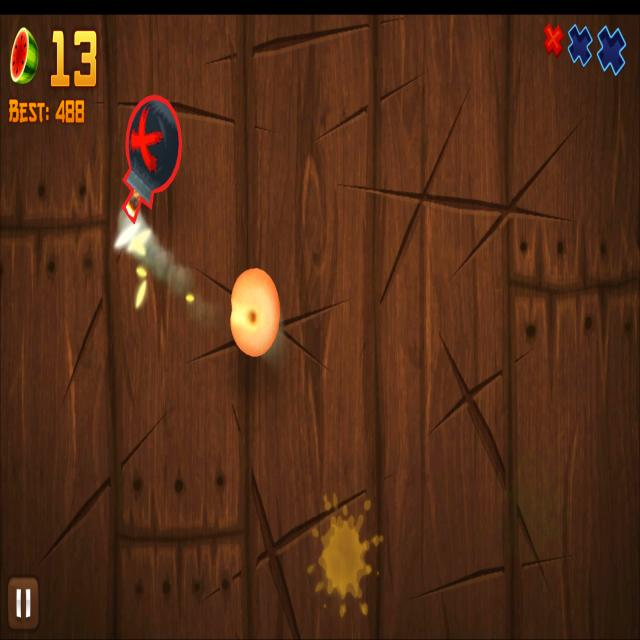bomb: (120, 93, 182, 225)
fruit: (230, 267, 281, 357)
